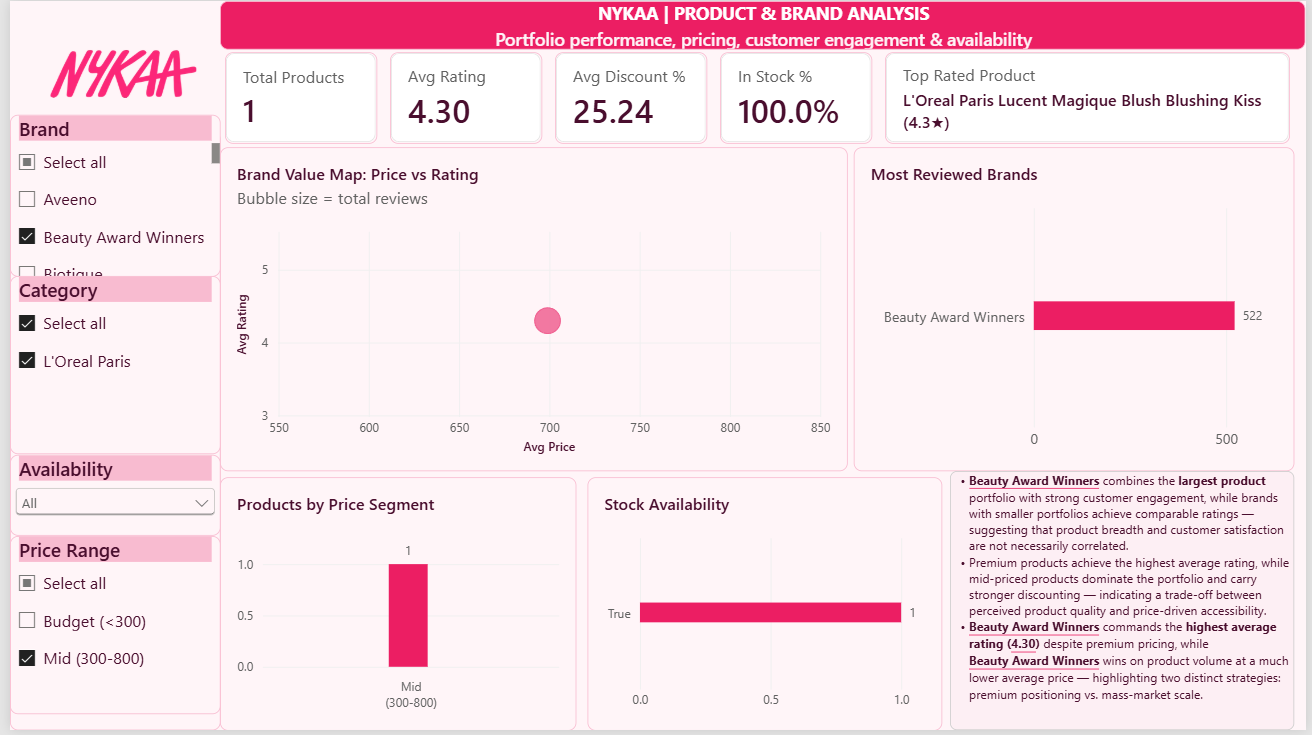

The page's visual inventory and layout, read from the dashboard file:
{"tool":"powerbi","page":{"name":"Page 1","canvas":[1280,720],"ordinal":0},"visuals":[{"type":"shape","box":[0,128,208,592],"z":0},{"type":"slicer","fields":{"Values":["nykaa_cleaned.brand_name"]},"box":[0,112,208,160],"z":1000},{"type":"slicer","fields":{"Values":["nykaa_cleaned.listing_page_name"]},"box":[0,272,208,176],"z":2000},{"type":"slicer","fields":{"Values":["nykaa_cleaned.in_stock"]},"box":[0,448,208,80],"z":3000},{"type":"slicer","fields":{"Values":["nykaa_cleaned.price_band"]},"box":[0,528,208,176],"z":4000},{"type":"cardVisual","fields":{"Data":["nykaa_cleaned.Total Products"]},"box":[212,50,150,90],"z":5000},{"type":"cardVisual","fields":{"Data":["nykaa_cleaned.Avg Rating"]},"box":[375,50,150,90],"z":6000},{"type":"cardVisual","fields":{"Data":["nykaa_cleaned.Avg Discount %"]},"box":[538,50,150,90],"z":7000},{"type":"cardVisual","fields":{"Data":["nykaa_cleaned.In Stock %"]},"box":[701,50,150,90],"z":8000},{"type":"cardVisual","fields":{"Data":["nykaa_cleaned.Top Rated Product"]},"box":[864,50,400,90],"z":9000},{"type":"scatterChart","title":"Brand Value Map: Price vs Rating","fields":{"Series":["nykaa_cleaned.brand_name"],"Size":["nykaa_cleaned.Total Reviews"],"X":["nykaa_cleaned.Avg Price"],"Y":["nykaa_cleaned.Avg Rating"]},"box":[208,144,620,320],"z":10000},{"type":"clusteredBarChart","title":"Most Reviewed Brands","fields":{"Category":["nykaa_cleaned.brand_name"],"Y":["nykaa_cleaned.Total Reviews"]},"box":[833,144,435,320],"z":11000},{"type":"clusteredColumnChart","title":"Products by Price Segment","fields":{"Category":["nykaa_cleaned.price_band"],"Y":["CountNonNull(nykaa_cleaned.product_id)"]},"box":[208,470,352,250],"z":12000},{"type":"clusteredBarChart","title":"Stock Availability","fields":{"Category":["nykaa_cleaned.in_stock"],"Y":["CountNonNull(nykaa_cleaned.product_id)"]},"box":[570,470,350,250],"z":13000},{"type":"textbox","box":[928,464,340,256],"z":14000},{"type":"textbox","title":"NYKAA | PRODUCT & BRAND ANALYSIS","box":[208,0,1072,48],"z":15000},{"type":"image","box":[0,0,224,144],"z":16000}]}

Visuals, with their boxes in screenshot pixels (x1, y1, x2, y2), scaled from the page's 1280x720 canvas onto the 1312x735 screenshot:
shape: region(0, 131, 213, 734)
slicer - nykaa_cleaned.brand_name: region(0, 114, 213, 278)
slicer - nykaa_cleaned.listing_page_name: region(0, 278, 213, 457)
slicer - nykaa_cleaned.in_stock: region(0, 457, 213, 539)
slicer - nykaa_cleaned.price_band: region(0, 539, 213, 719)
cardVisual - nykaa_cleaned.Total Products: region(217, 51, 371, 143)
cardVisual - nykaa_cleaned.Avg Rating: region(384, 51, 538, 143)
cardVisual - nykaa_cleaned.Avg Discount %: region(551, 51, 705, 143)
cardVisual - nykaa_cleaned.In Stock %: region(719, 51, 872, 143)
cardVisual - nykaa_cleaned.Top Rated Product: region(886, 51, 1296, 143)
"Brand Value Map: Price vs Rating" scatterChart: region(213, 147, 849, 474)
"Most Reviewed Brands" clusteredBarChart: region(854, 147, 1300, 474)
"Products by Price Segment" clusteredColumnChart: region(213, 480, 574, 734)
"Stock Availability" clusteredBarChart: region(584, 480, 943, 734)
textbox: region(951, 474, 1300, 734)
"NYKAA | PRODUCT & BRAND ANALYSIS" textbox: region(213, 0, 1311, 49)
image: region(0, 0, 230, 147)
